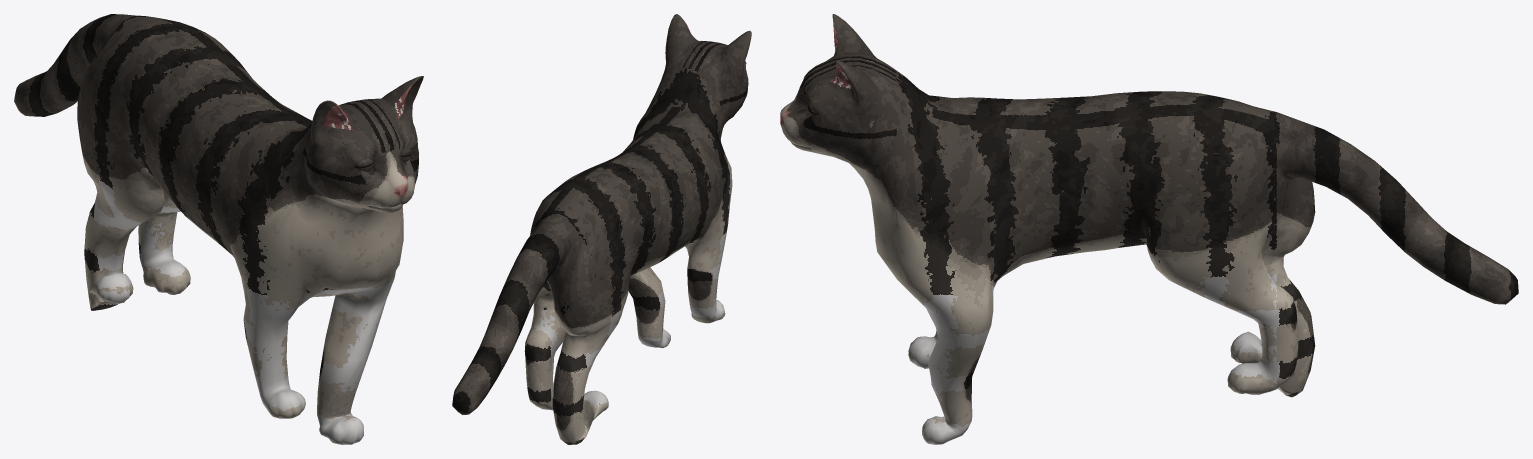
File: stray.glb
3 renders of one model, left to right at view 1: azimuth 30°, elevation 25°; view 2: azimuth 150°, elevation 25°; view 3: azimuth 270°, elevation 25°, orthographic. The views are drawn at different scales.
Visible parts, largest first — view 1: stray; view 2: stray; view 3: stray.
Part boxes in pixels (box(x1,y1,x2,y2)): stray: box(14, 14, 423, 444); stray: box(452, 14, 751, 444); stray: box(780, 14, 1518, 444).
Size of the model in its own units: 0.1298 by 0.306 by 0.5213.
Materials: 1 (1 with a texture image).
